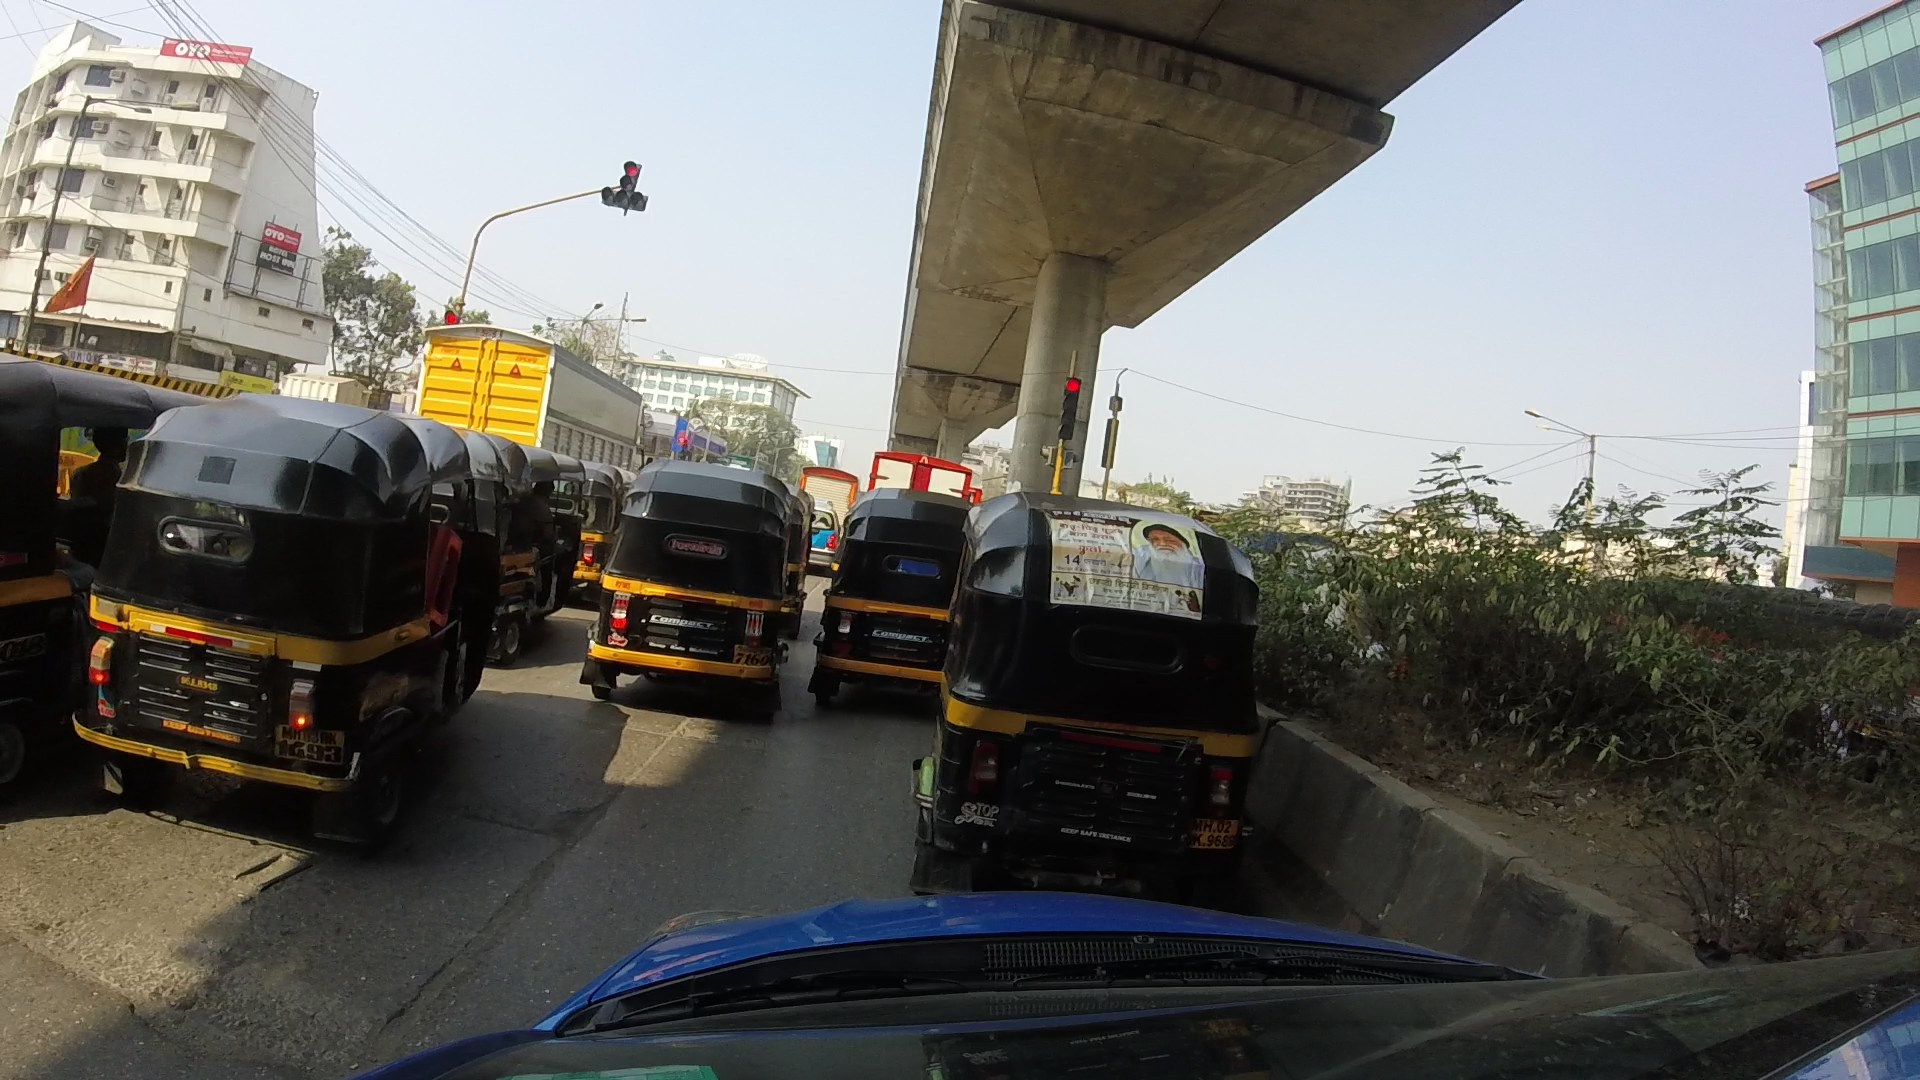rickshaw: (69, 401, 465, 810), (934, 498, 1255, 905), (1, 353, 208, 705), (611, 458, 787, 723), (816, 487, 961, 702), (455, 426, 574, 661), (580, 458, 638, 605)
truck: (419, 322, 644, 468), (803, 462, 853, 572), (872, 450, 968, 498)
